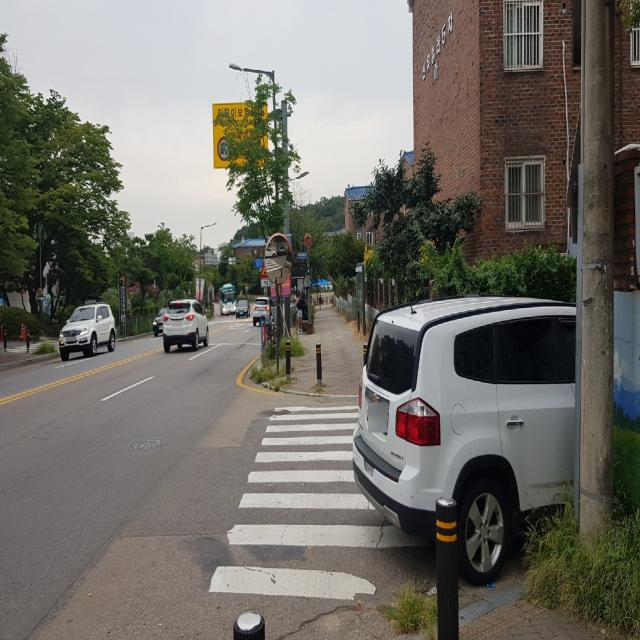횡단보도: (209, 406, 433, 602)
